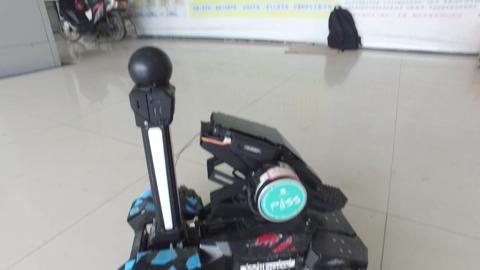chariot: (69, 53, 369, 270)
